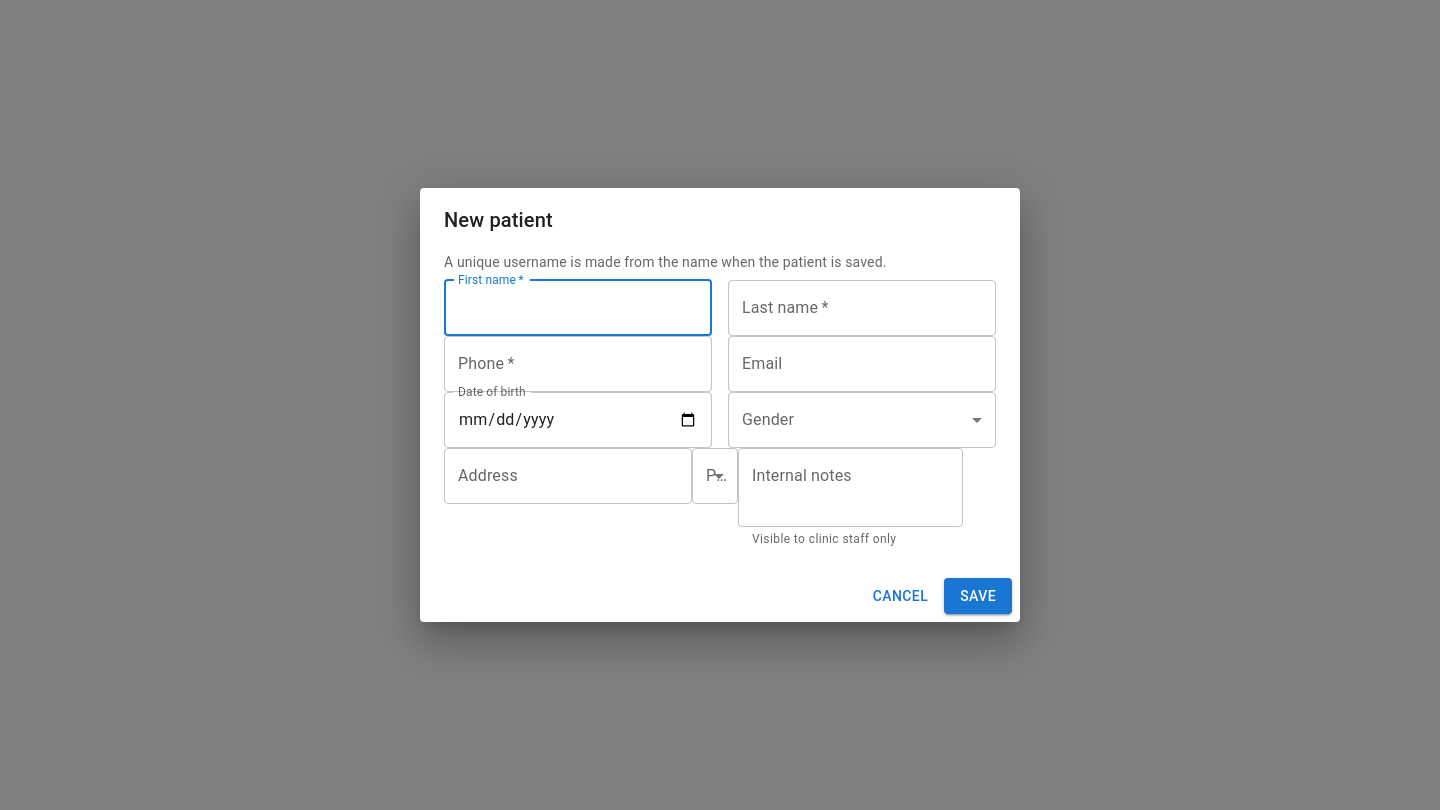
Test: the primary doctor of a new patient › has to be chosen before anything is sent
Type "Hicham" into the field labelled "First name *" at (578, 308), box top-left (444, 280), bottom-right (712, 336)
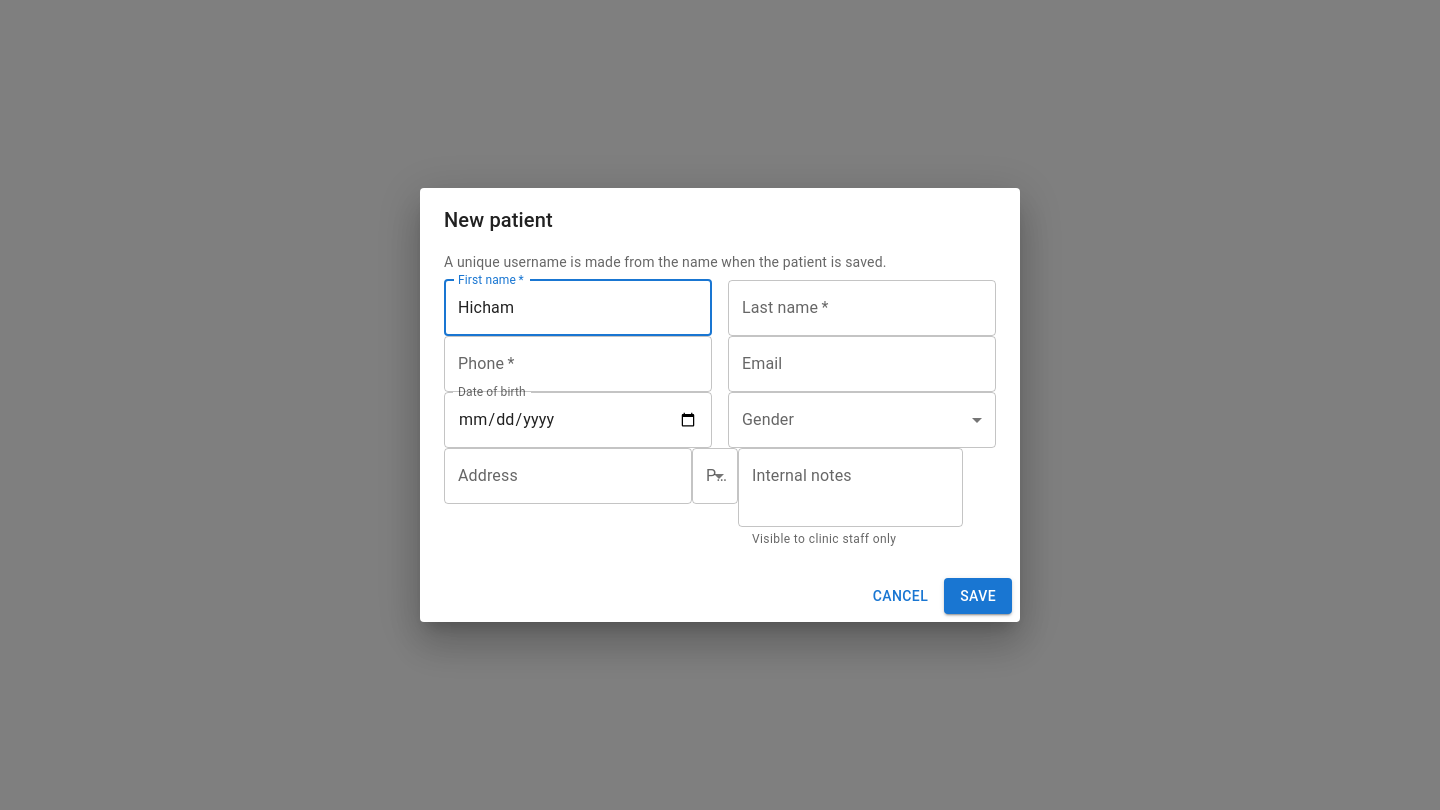
Type "Cheaib" into the field labelled "Last name *" at (862, 308), box top-left (728, 280), bottom-right (996, 336)
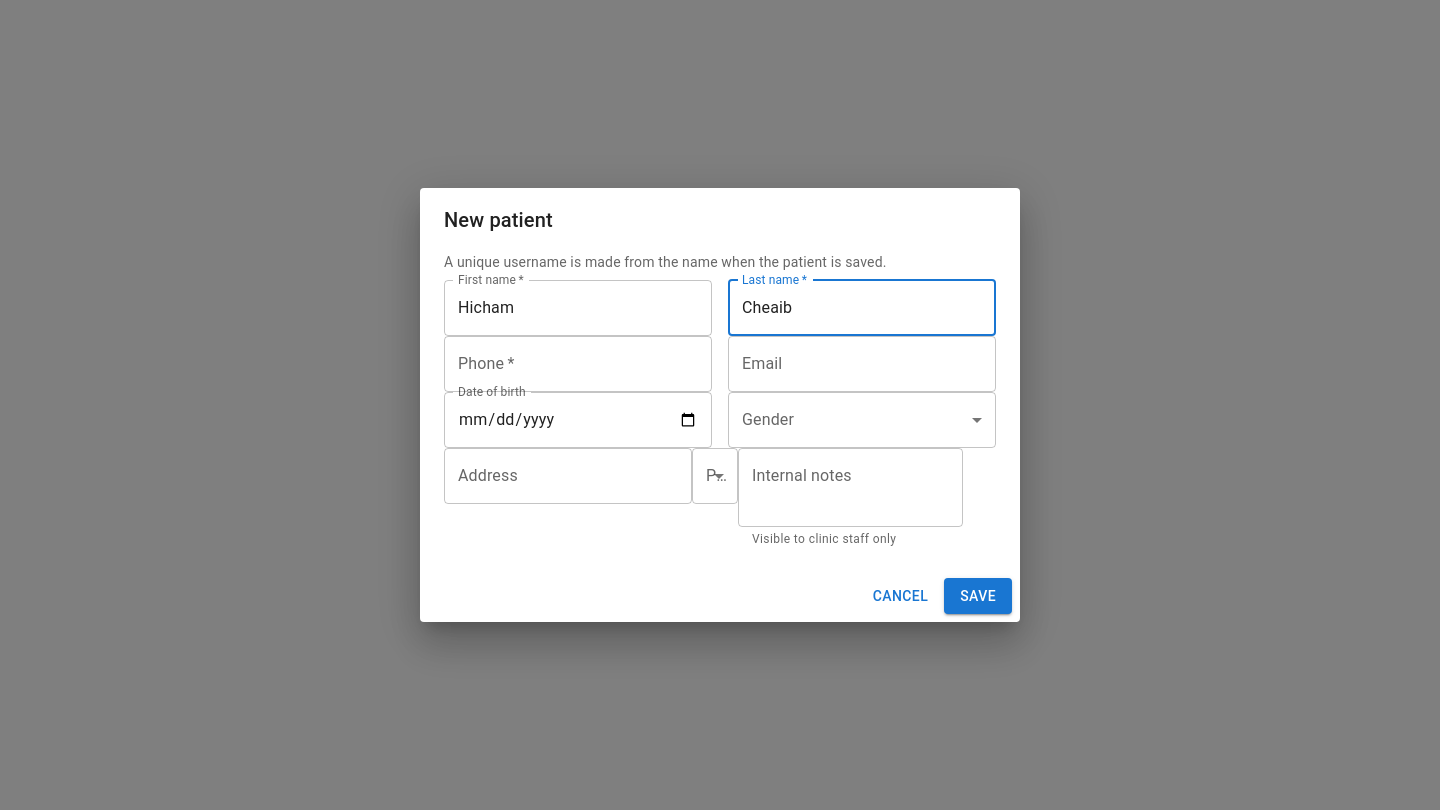
Type "03039198" into the field labelled "Phone *" at (578, 364), box top-left (444, 336), bottom-right (712, 392)
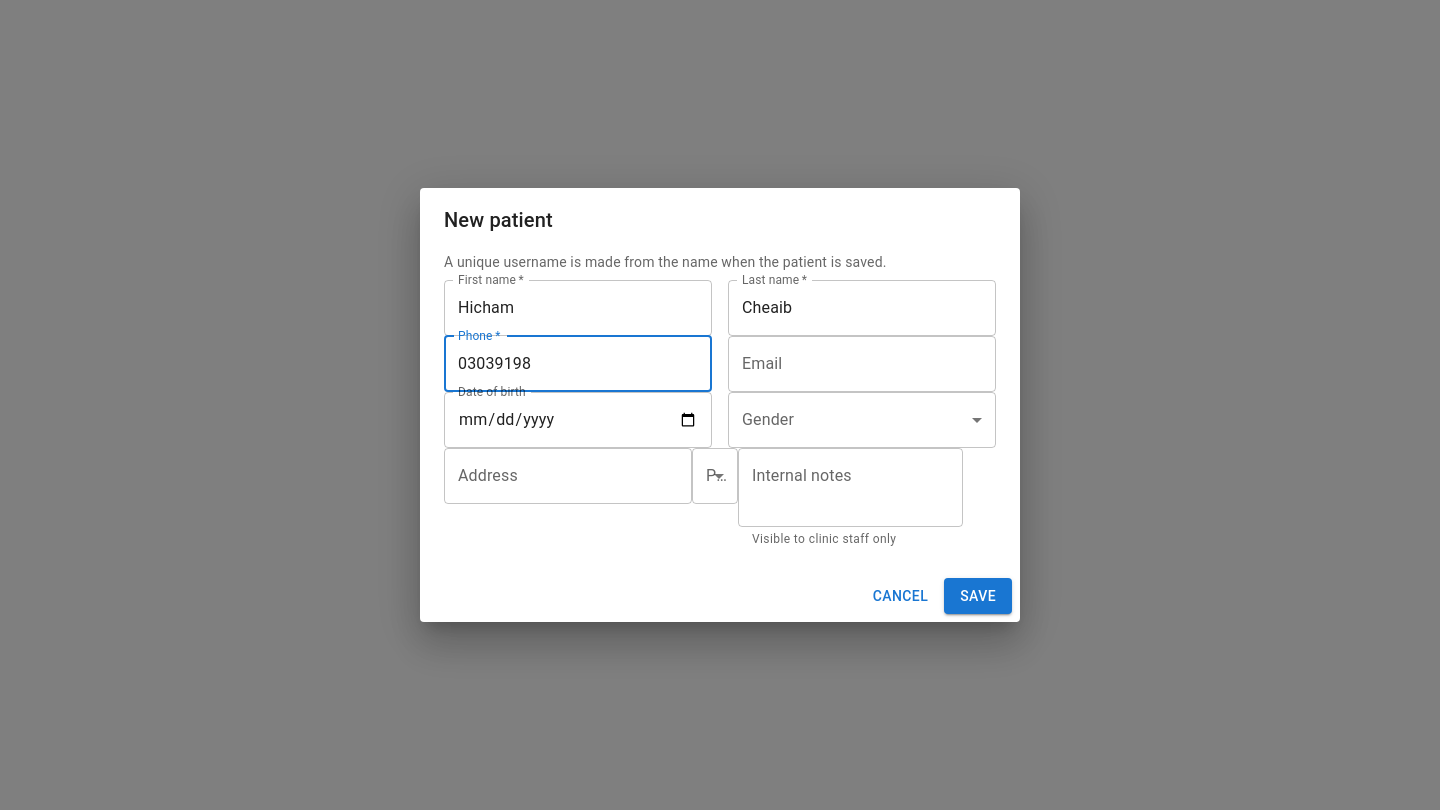
Click the button "Save" at (978, 596), box top-left (944, 578), bottom-right (1012, 614)
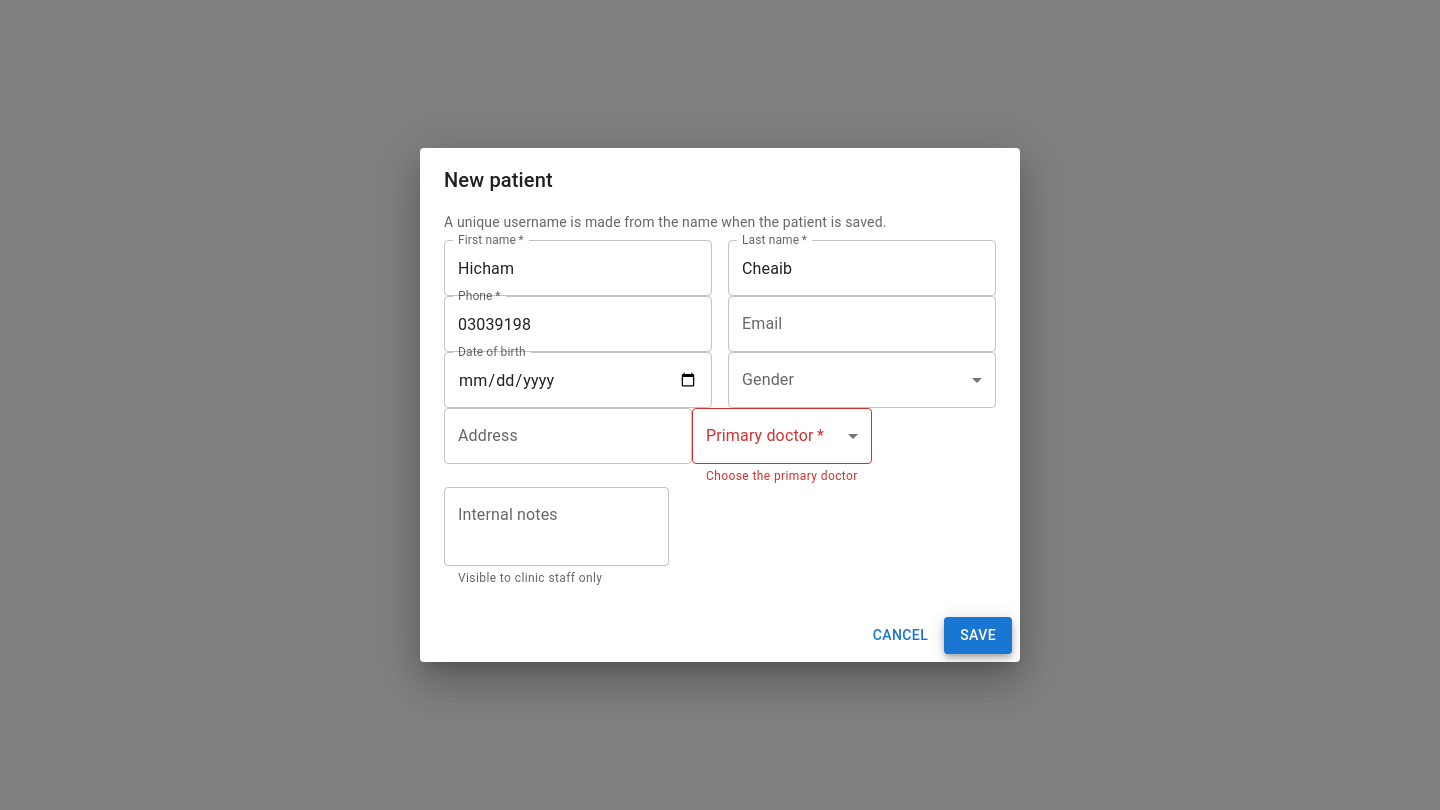
Check: the text "Choose the primary doctor" is shown, box top-left (706, 467), bottom-right (858, 487)
